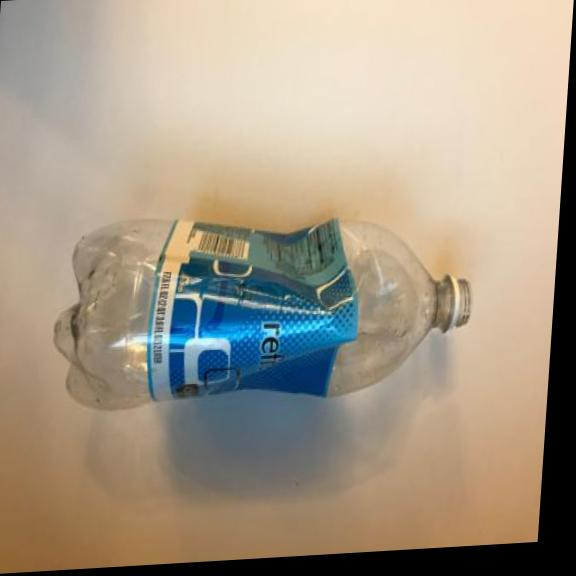Plastik: (45, 193, 478, 422)
